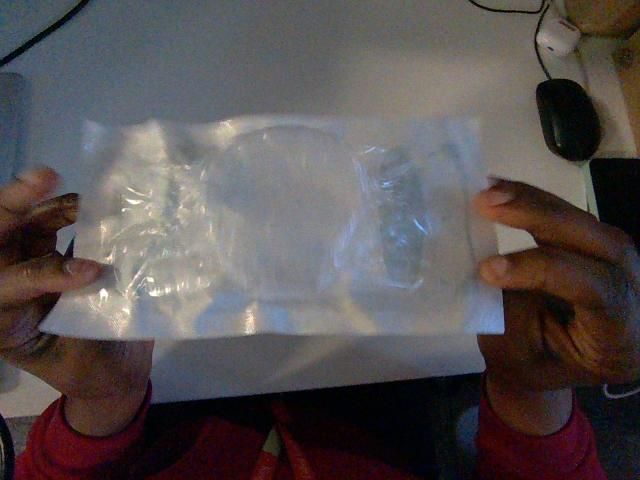gallipot: (41, 116, 502, 338)
